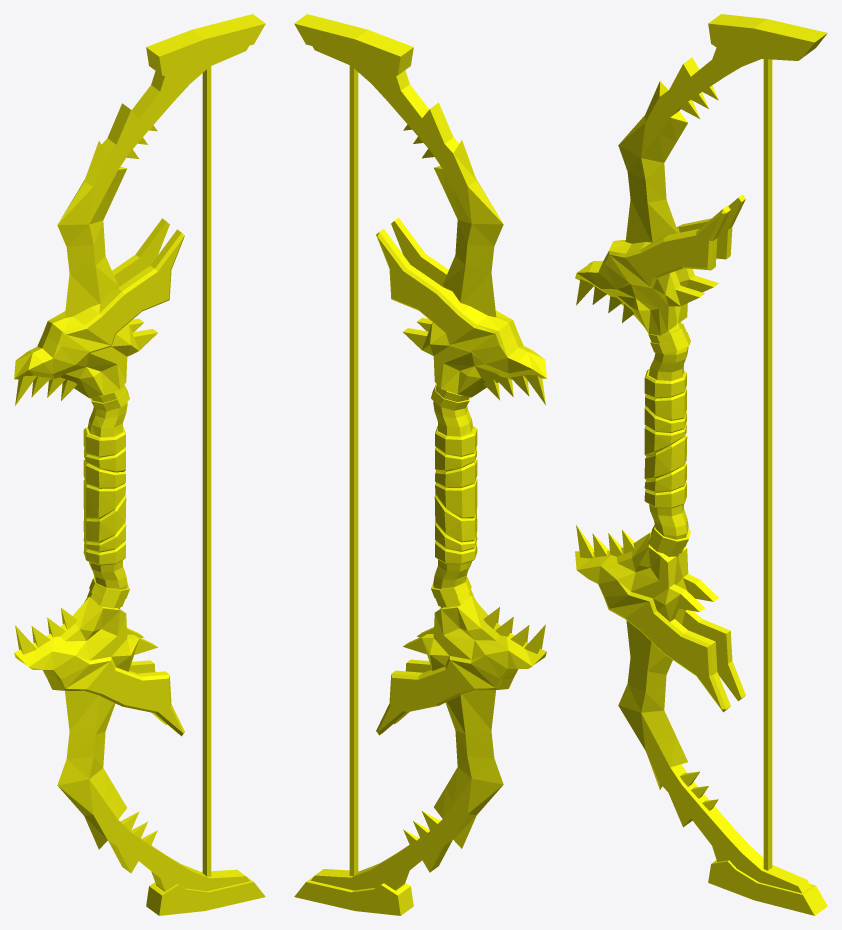
Rendered from _bow_5.glb.
3 views of the same model, side by side, from view 1: azimuth 30°, elevation 25°; view 2: azimuth 150°, elevation 25°; view 3: azimuth 330°, elevation 25° (orthographic).
Parts seen in each view (by area): view 1: bow_5; view 2: bow_5; view 3: bow_5.
Part boxes in pixels (x1=…): bow_5: x1=14, y1=14, x2=265, y2=915; bow_5: x1=294, y1=14, x2=546, y2=915; bow_5: x1=575, y1=14, x2=827, y2=915.
Size of the model in its own units: 0.29 by 0.9844 by 0.0545.
1 material, 1 textured.
